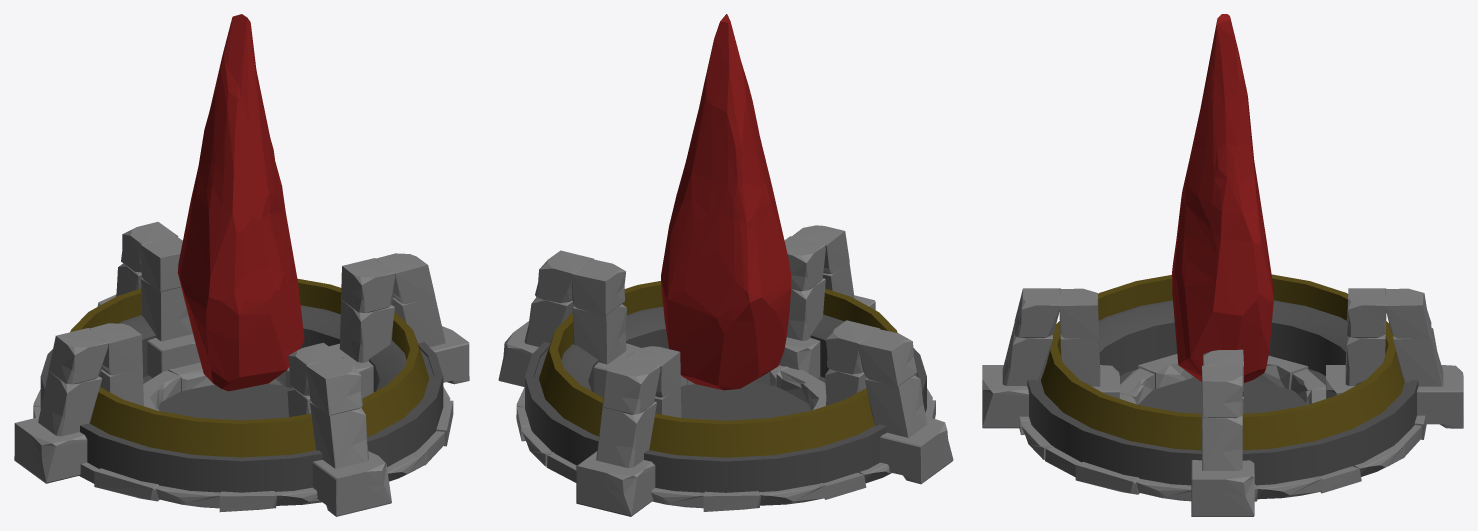
Rendered from SM_retriever_moba.fbx.
3 renders of one model, left to right at view 1: azimuth 30°, elevation 25°; view 2: azimuth 150°, elevation 25°; view 3: azimuth 270°, elevation 25°, orthographic.
Parts seen in each view (by area): view 1: Cylinder009; view 2: Cylinder009; view 3: Cylinder009.
Part boxes in pixels (<box>): Cylinder009: <box>14,14,469,516</box>; Cylinder009: <box>498,14,953,516</box>; Cylinder009: <box>982,14,1463,516</box>.
Size of the model in its own units: 339 by 339 by 314.
